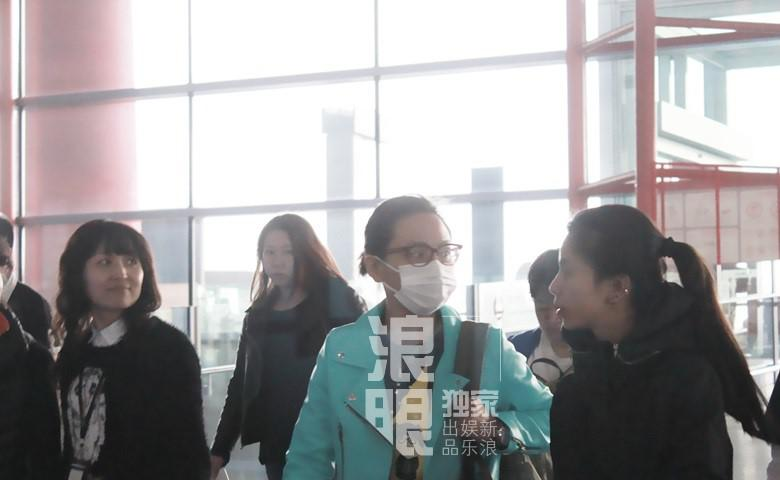NONE: (87, 250, 151, 314), (554, 255, 600, 329), (533, 285, 574, 337), (261, 241, 300, 280)
OK: (389, 232, 457, 306)
